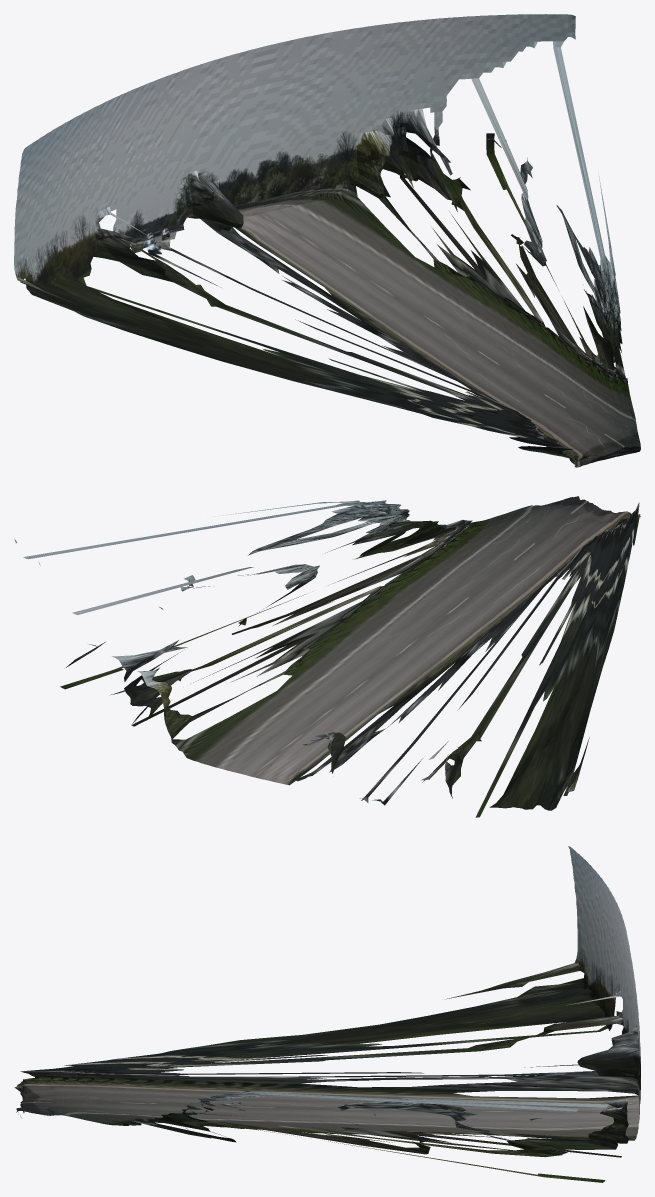
3 views of the same model, one above another, from view 1: azimuth 30°, elevation 25°; view 2: azimuth 150°, elevation 25°; view 3: azimuth 270°, elevation 25° (orthographic). The views are drawn at different scales.
Parts seen in each view (by area): view 1: defaultobject; view 2: defaultobject; view 3: defaultobject.
Boxes of the visible parts, box(x1,y1,x2,y2) form: defaultobject: box(14, 14, 640, 467); defaultobject: box(14, 496, 640, 817); defaultobject: box(14, 846, 640, 1182).
Bounding box in the file's own units: 40.94 × 12.65 × 44.62.
Materials: 1 (1 with a texture image).
